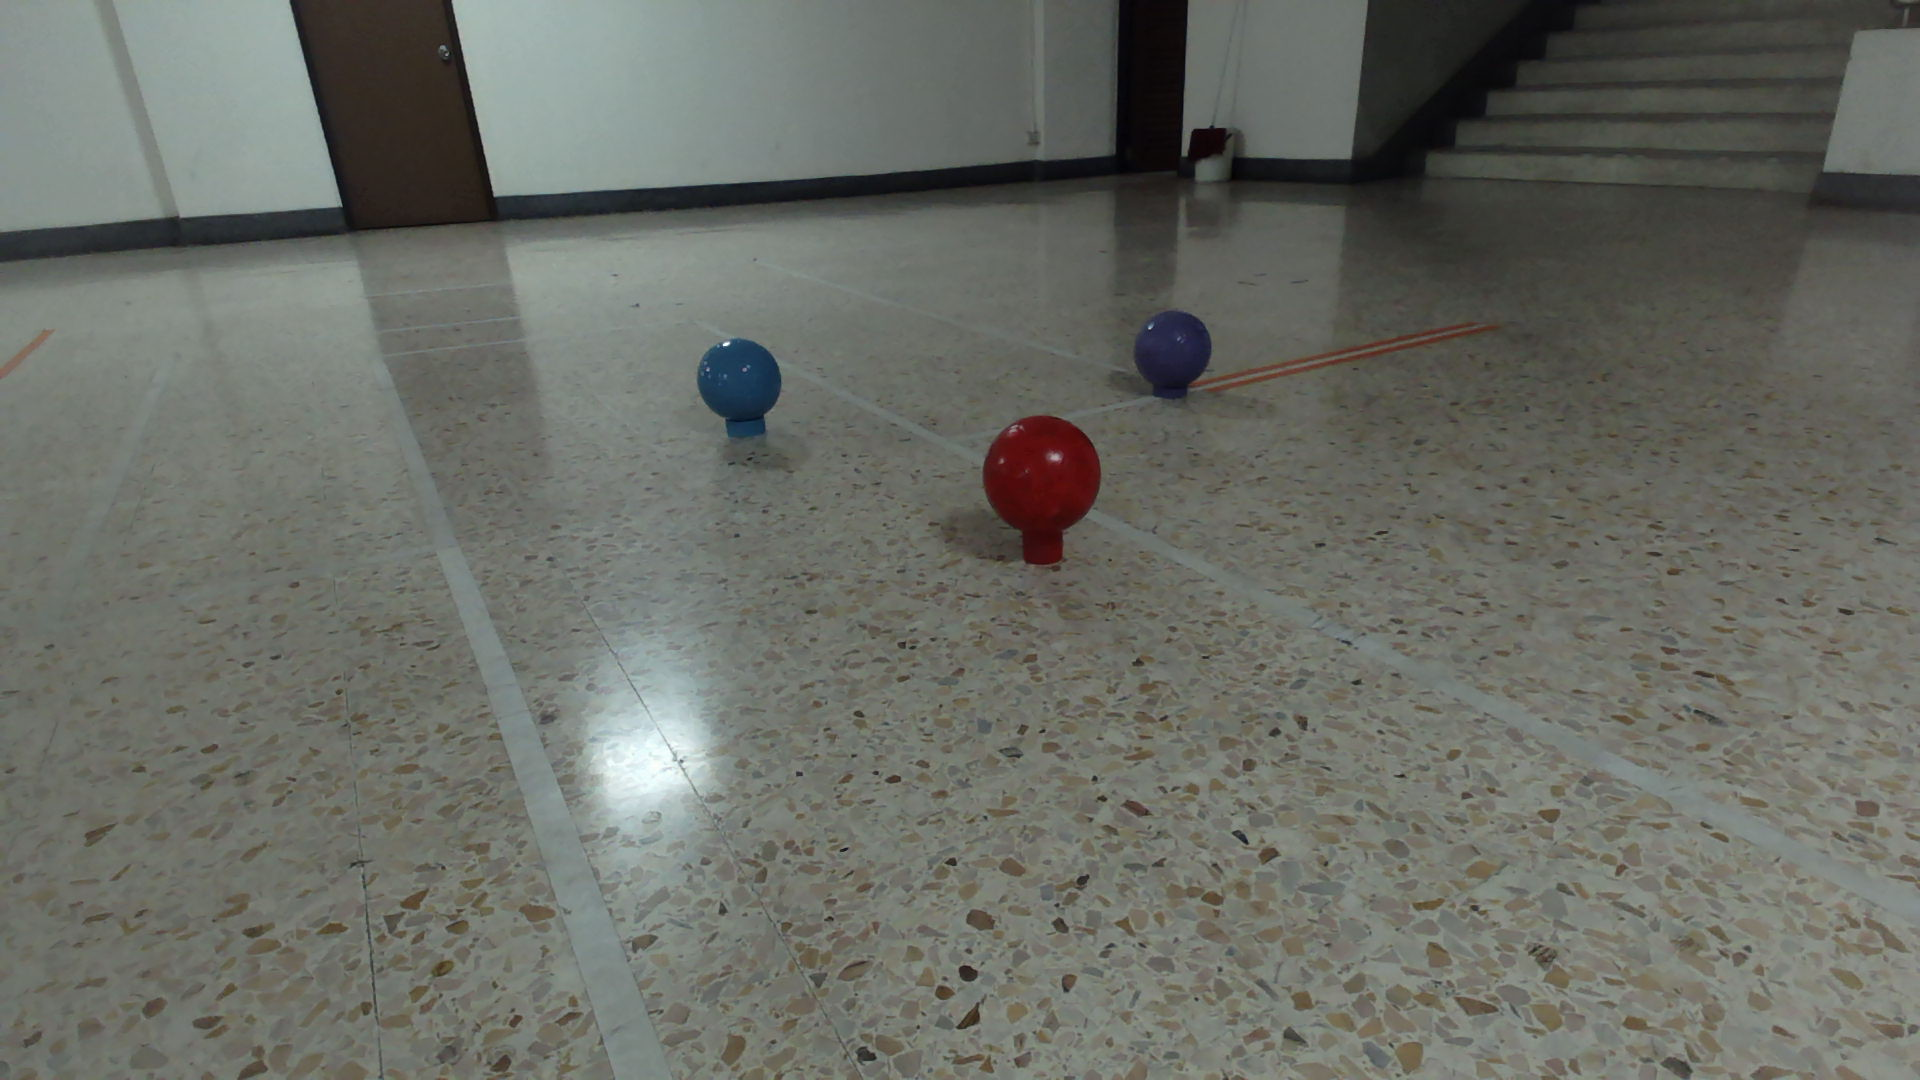Blue ball: (695, 336, 782, 422)
Purple ball: (1131, 309, 1215, 392)
Red ball: (981, 414, 1102, 534)
